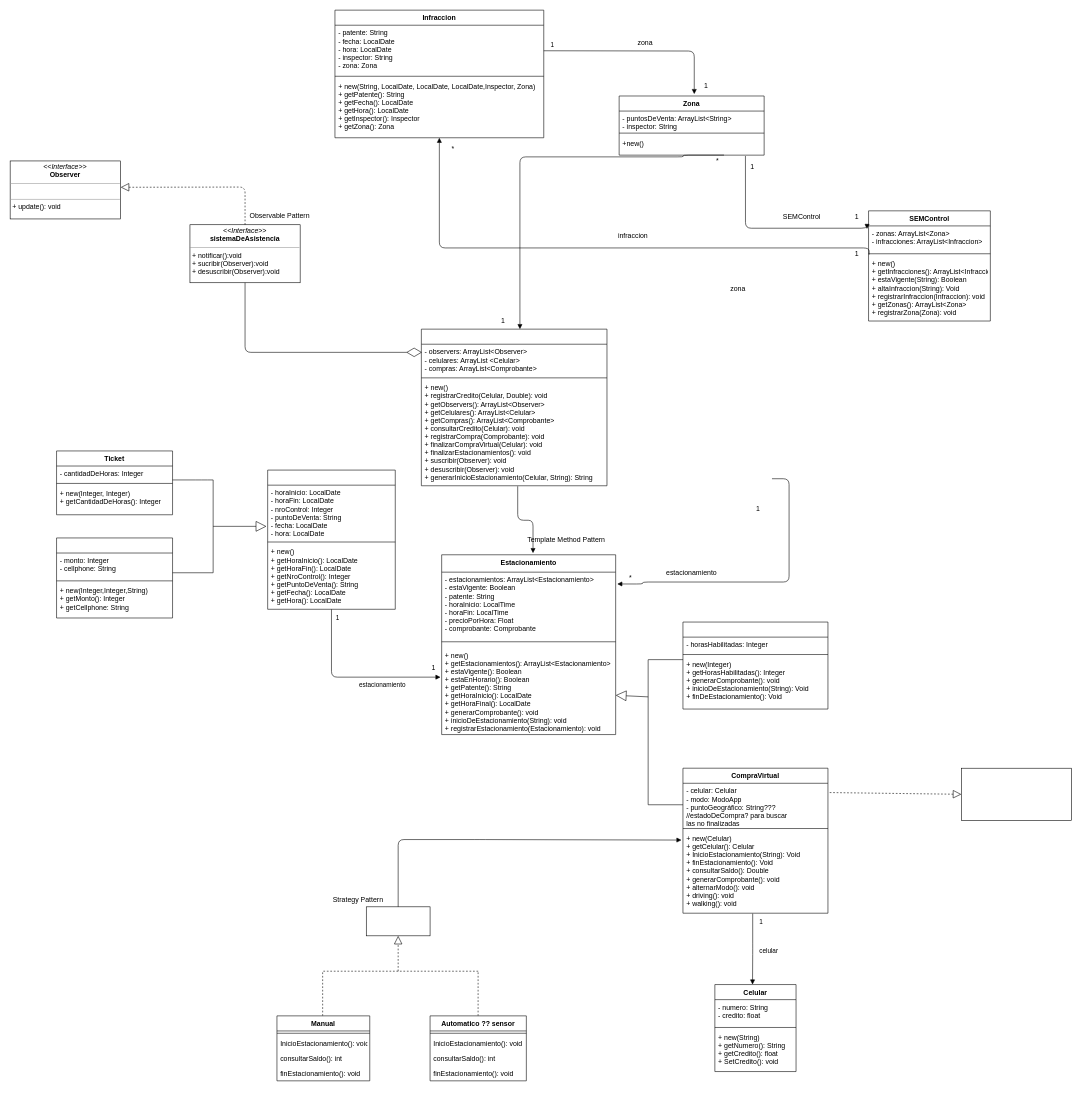
This 1082x1093 diagram has some shape labels left out. The shapes that lost their labels are listed below. From the top down, each one's box as (x1, y1, x2, y2) in pixels, then its label:
(421, 329, 607, 486): SEMCentral
(267, 470, 395, 609): Comprobante
(56, 537, 173, 618): ETicket
(682, 621, 828, 709): CompraPuntual
(961, 768, 1072, 820): <<Interface>> MovementSensor + driving(); + walking() ;
(366, 906, 430, 936): «interface» ModoApp
